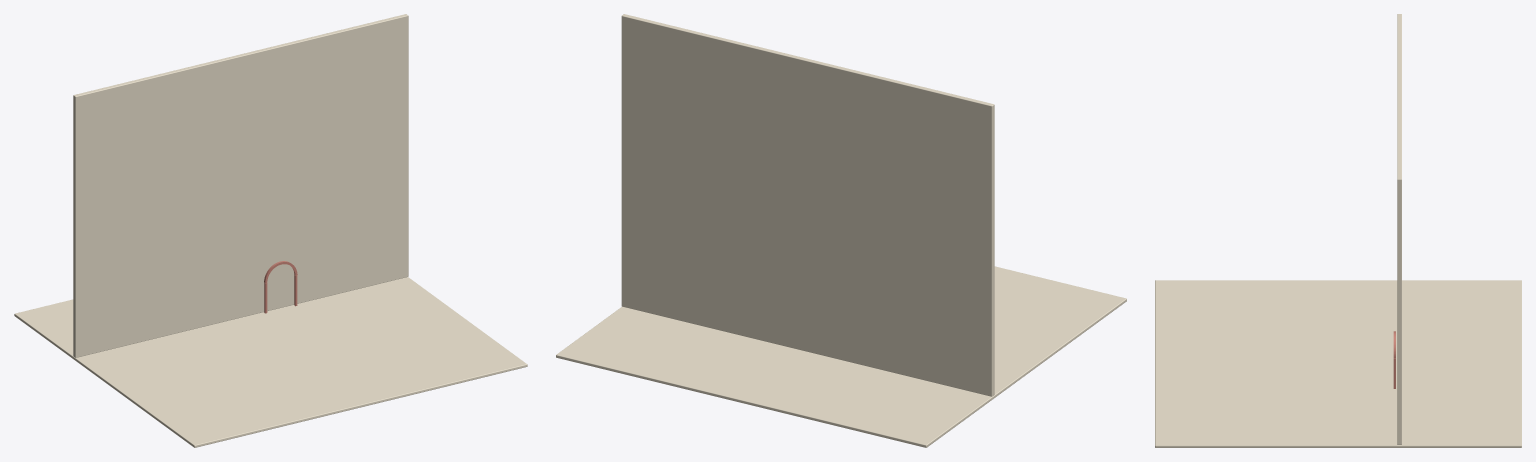
File: boutique-background.glb
The picture shows the model from 3 angles, left to right: view 1: azimuth 30°, elevation 25°; view 2: azimuth 150°, elevation 25°; view 3: azimuth 270°, elevation 25°; orthographic projection. The views are drawn at different scales.
Parts seen in each view (by area): view 1: Background wall, Seamless floor; view 2: Background wall, Seamless floor; view 3: Seamless floor, Background wall.
Part boxes in pixels (x1,y1,x2,y2): Background wall: (73, 14, 408, 357); Seamless floor: (14, 277, 527, 447); Background wall: (621, 14, 994, 396); Seamless floor: (556, 266, 1126, 447); Seamless floor: (1155, 280, 1521, 447); Background wall: (1397, 14, 1401, 444).
Bounding box in the file's own units: 32 × 24.27 × 30.
